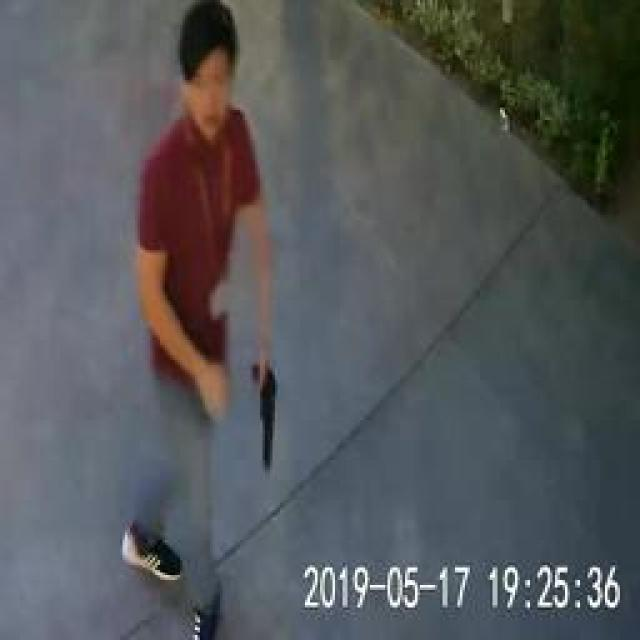Guns: (248, 337, 290, 481)
